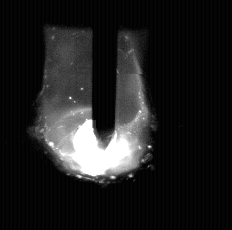arame: (93, 0, 117, 151)
poca: (44, 0, 145, 230)
